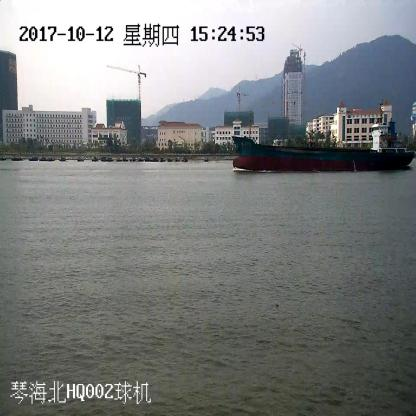Bulk Carrier: (230, 122, 414, 170)
